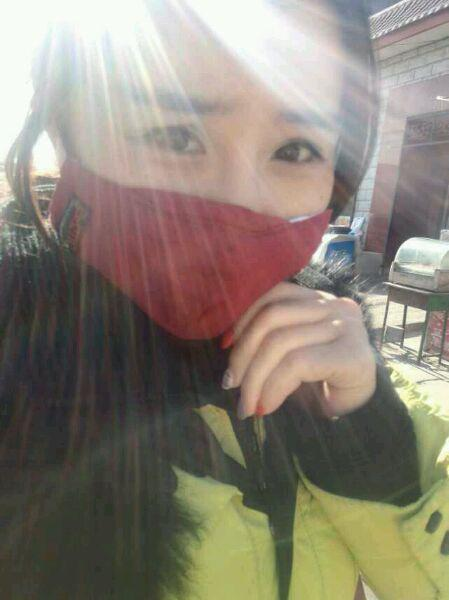WRONG: (84, 75, 346, 342)
